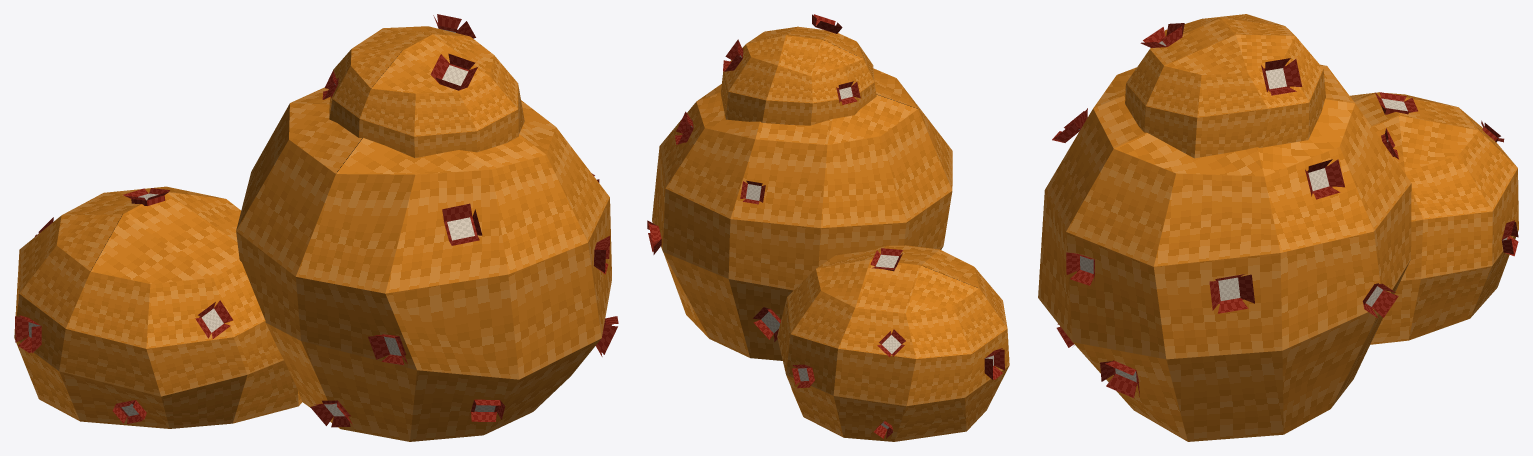
The model's file is Buisson3.glb.
The picture shows the model from 3 angles, left to right: view 1: azimuth 30°, elevation 25°; view 2: azimuth 150°, elevation 25°; view 3: azimuth 270°, elevation 25°; orthographic projection. The views are drawn at different scales.
Visible parts, largest first — view 1: Cylinder.006; view 2: Cylinder.006; view 3: Cylinder.006.
Part boxes in pixels (x1,y1,x2,y2): Cylinder.006: [14, 14, 618, 441]; Cylinder.006: [647, 14, 1009, 441]; Cylinder.006: [1038, 14, 1518, 441].
Size of the model in its own units: 1.48 by 1.02 by 1.26.
24 materials, 24 textured.
